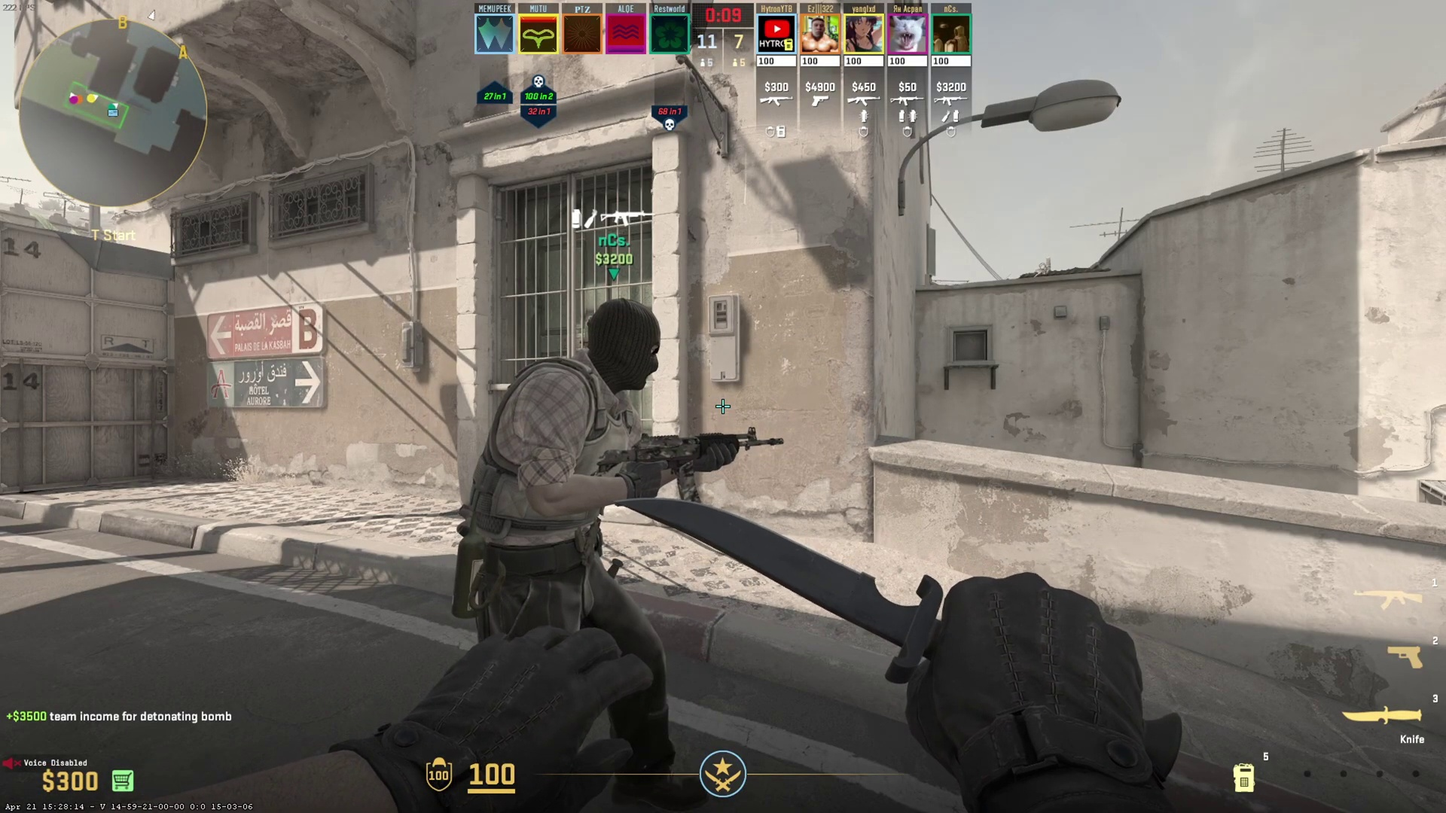Terrorist: (473, 300, 660, 664)
